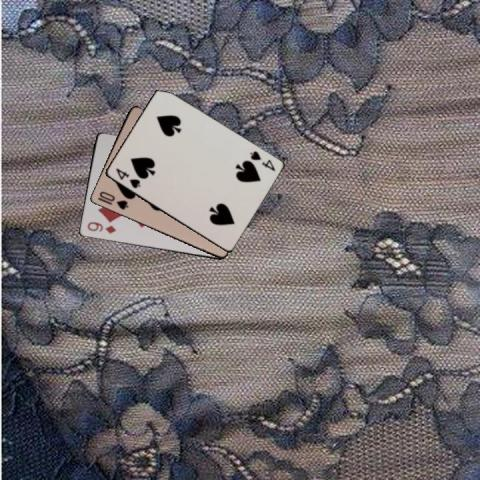10s: (96, 189, 129, 211)
4s: (113, 165, 142, 190), (247, 148, 276, 173)
9d: (84, 220, 117, 236)
